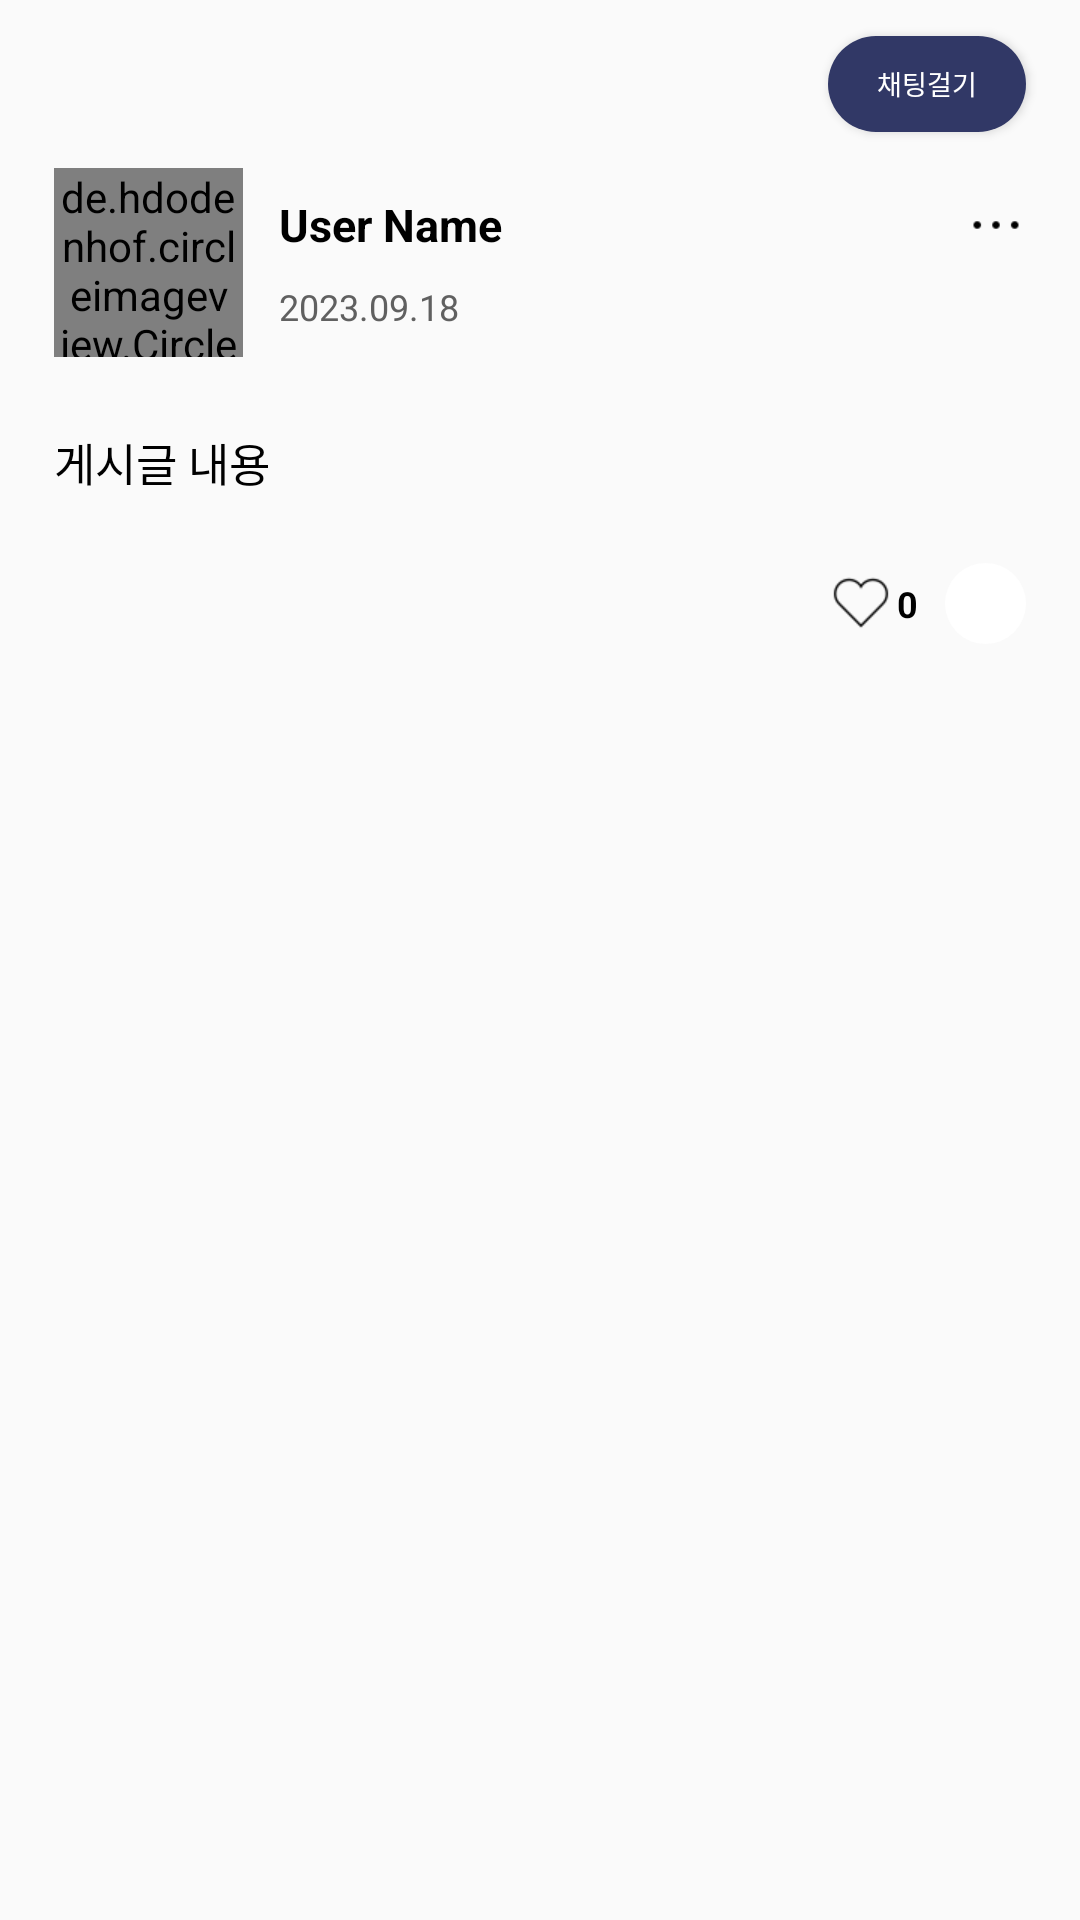

Locate icon controls on the screen. Image size 1080px x 1920px, boxes as BBox(x1, y1, x2, y2).
heart: BBox(833, 578, 889, 628)
more: BBox(973, 221, 1019, 229)
